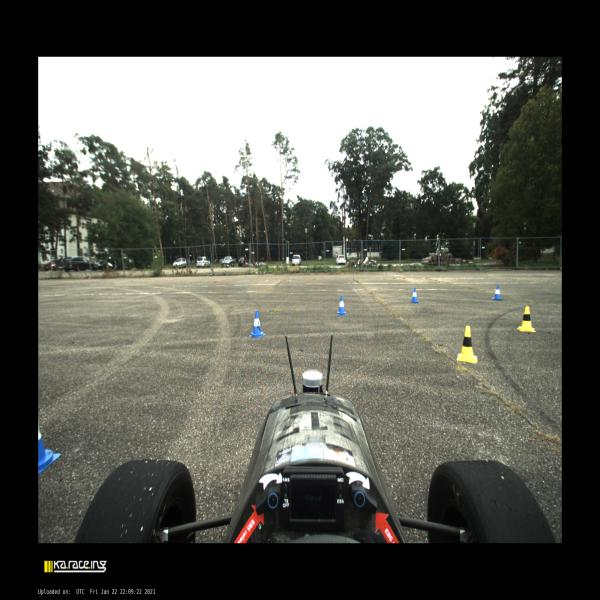blue_cone: (38, 423, 60, 473), (250, 311, 264, 338), (337, 296, 346, 316), (492, 285, 502, 300), (411, 288, 418, 304)
yellow_cone: (457, 326, 477, 364), (516, 306, 536, 333)
